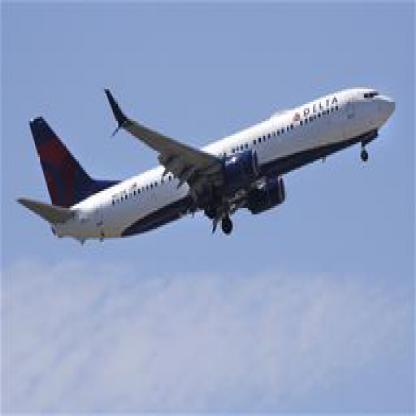CIV_Plane: (13, 73, 395, 246)
